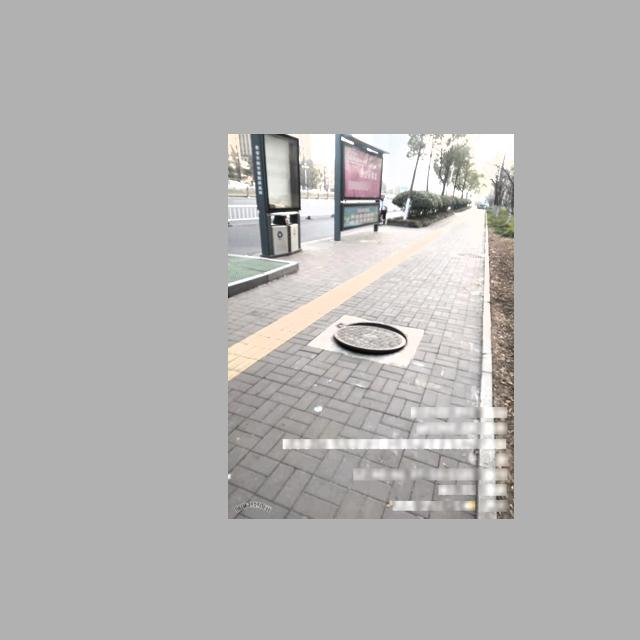uncovered: (332, 320, 410, 358)
